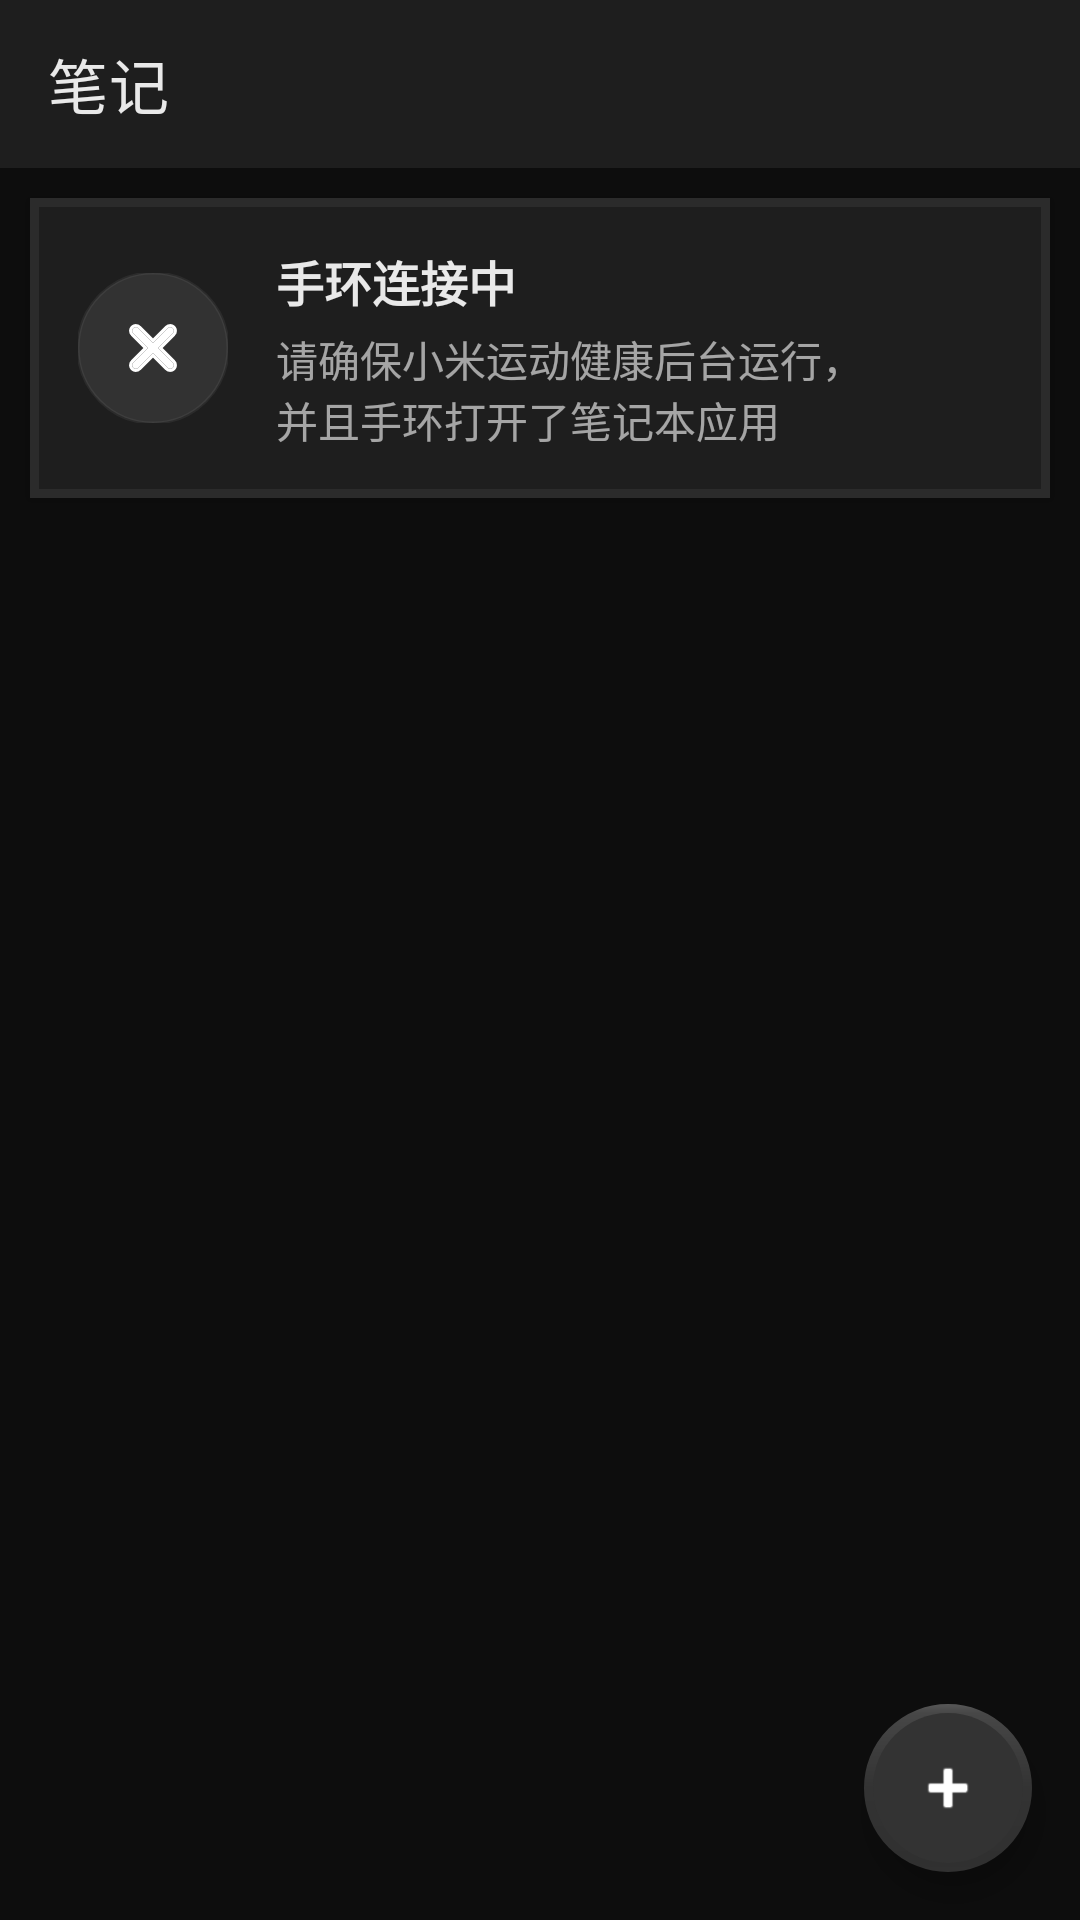

Icon bounding boxes for this 1080x1920 phone screenshot, format (x1, y1, x2, y2):
添加笔记: (864, 1704, 1032, 1872)
